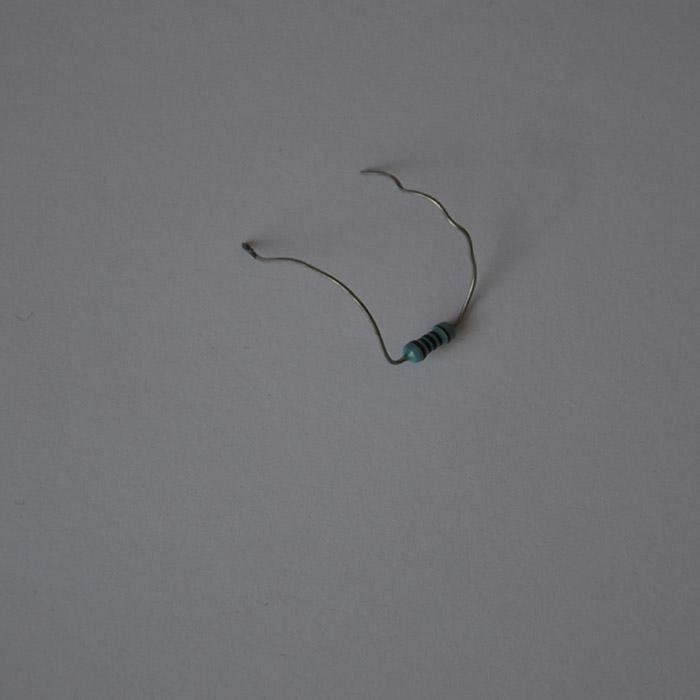resistor: (402, 319, 458, 363)
